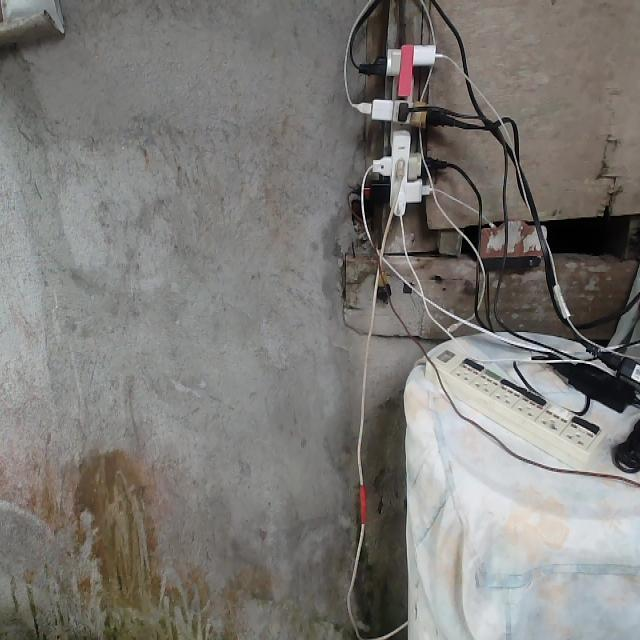-: (347, 40, 459, 216)
